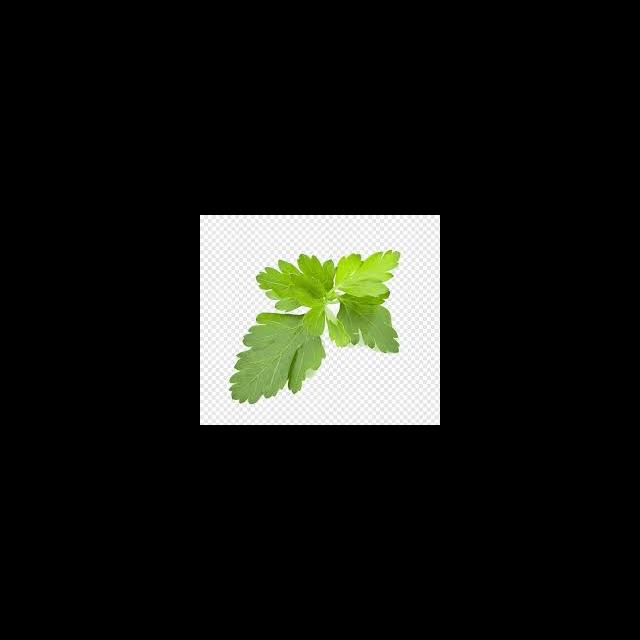cilantro: (228, 249, 401, 406)
